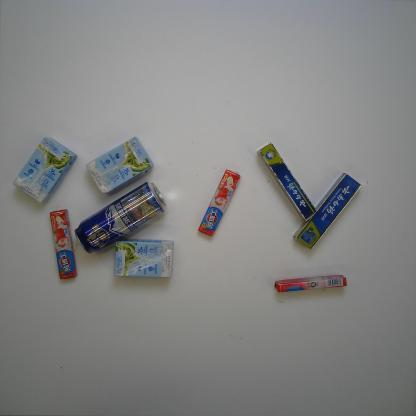Alcohol: (70, 179, 168, 256)
Candy: (196, 167, 242, 240), (48, 209, 79, 281), (273, 273, 348, 292)
Milk: (10, 134, 80, 206), (83, 135, 157, 199), (114, 238, 175, 280)
Personal Hygiene: (291, 168, 363, 253), (255, 138, 319, 224)
